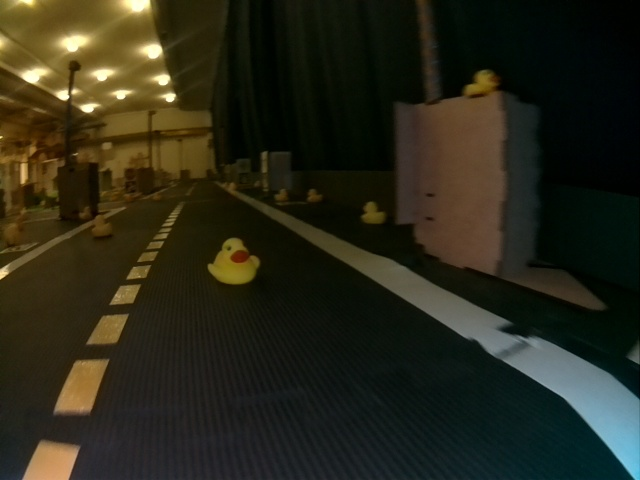Duckie: (207, 238, 260, 283), (464, 71, 497, 95), (361, 201, 385, 221), (91, 216, 112, 236), (308, 189, 322, 202), (274, 189, 288, 201), (79, 208, 92, 218)
